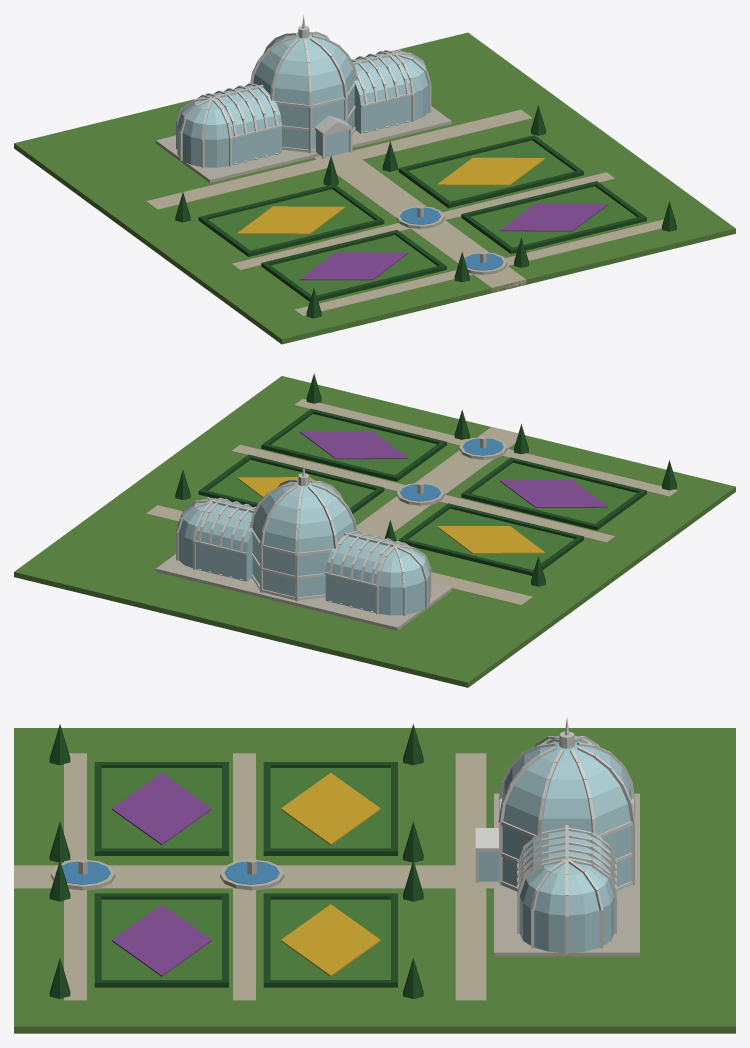
The model's file is estufa_jardim_botanico.glb.
The picture shows the model from 3 angles, top to bottom: view 1: azimuth 30°, elevation 25°; view 2: azimuth 150°, elevation 25°; view 3: azimuth 270°, elevation 25°; orthographic projection. The views are drawn at different scales.
Parts seen in each view (by area): view 1: estufa_jardim_botanico; view 2: estufa_jardim_botanico; view 3: estufa_jardim_botanico.
Boxes of the visible parts, x1,y1,x2,y2 form: estufa_jardim_botanico: [14, 15, 735, 344]; estufa_jardim_botanico: [14, 373, 735, 687]; estufa_jardim_botanico: [14, 718, 735, 1033].
Bounding box in the file's own units: 92 × 24.1 × 94.
